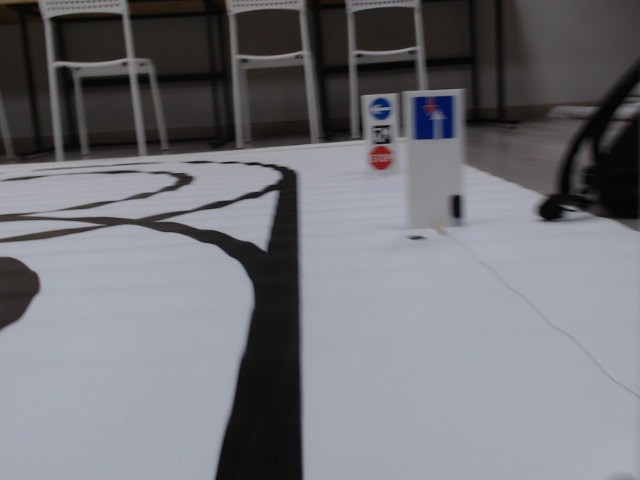Stop: (369, 146, 393, 169)
priority_movement: (408, 96, 458, 141)
